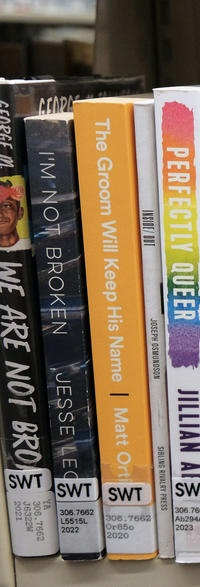call_number: (6, 495, 55, 558), (103, 506, 155, 557), (58, 499, 99, 557), (173, 502, 200, 553)
